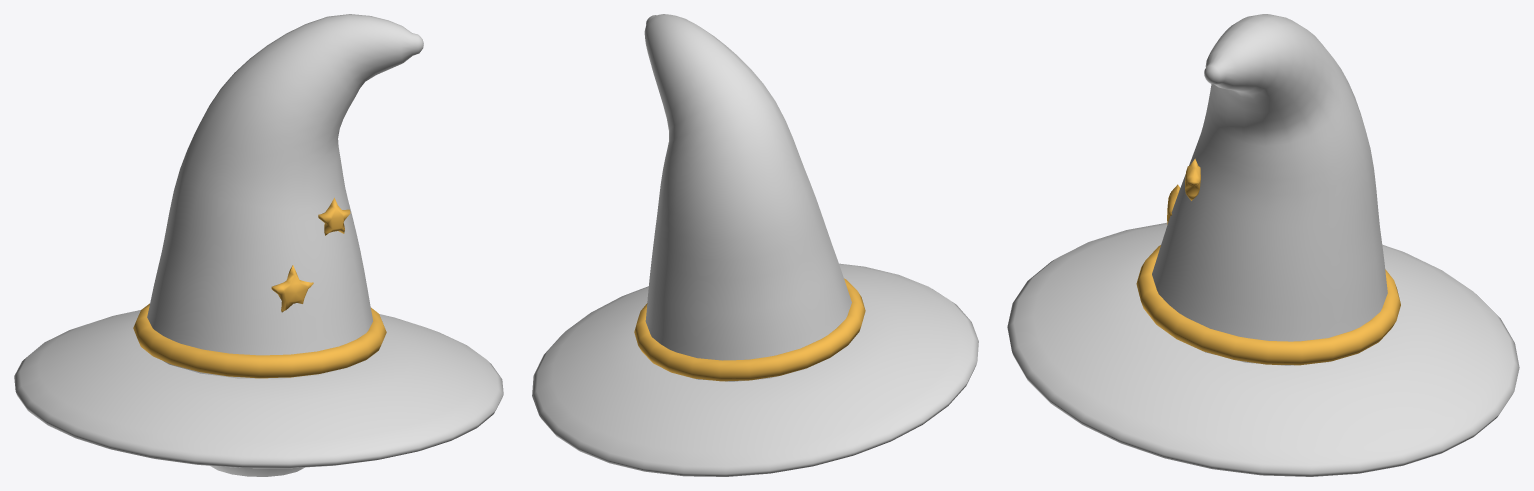
File: wizard_hat.glb
The picture shows the model from 3 angles, left to right: view 1: azimuth 30°, elevation 25°; view 2: azimuth 150°, elevation 25°; view 3: azimuth 270°, elevation 25°; orthographic projection. The views are drawn at different scales.
Visible parts, largest first — view 1: wizard_hat; view 2: wizard_hat; view 3: wizard_hat.
Part boxes in pixels (<box>): wizard_hat: <box>14,14,503,476</box>; wizard_hat: <box>532,14,978,476</box>; wizard_hat: <box>1007,14,1519,476</box>.
Bounding box in the file's own units: 1.28 × 1.25 × 1.28.
